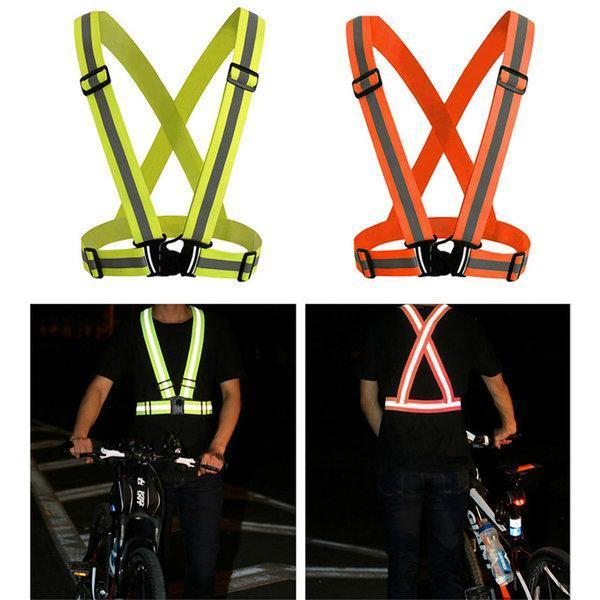Vest: (117, 303, 225, 418), (375, 304, 470, 422)
